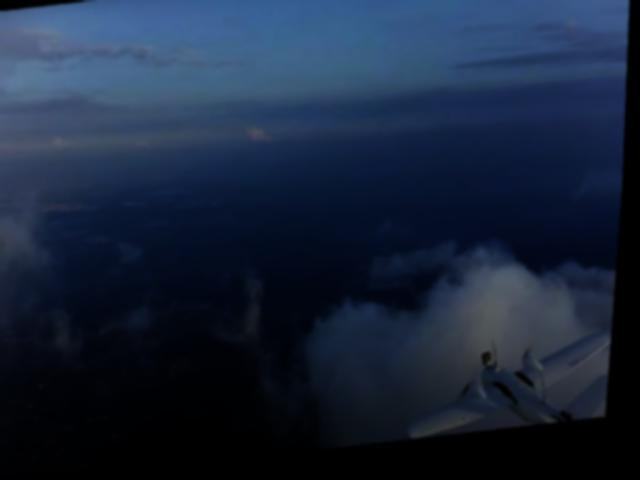iha: (403, 324, 619, 448)
